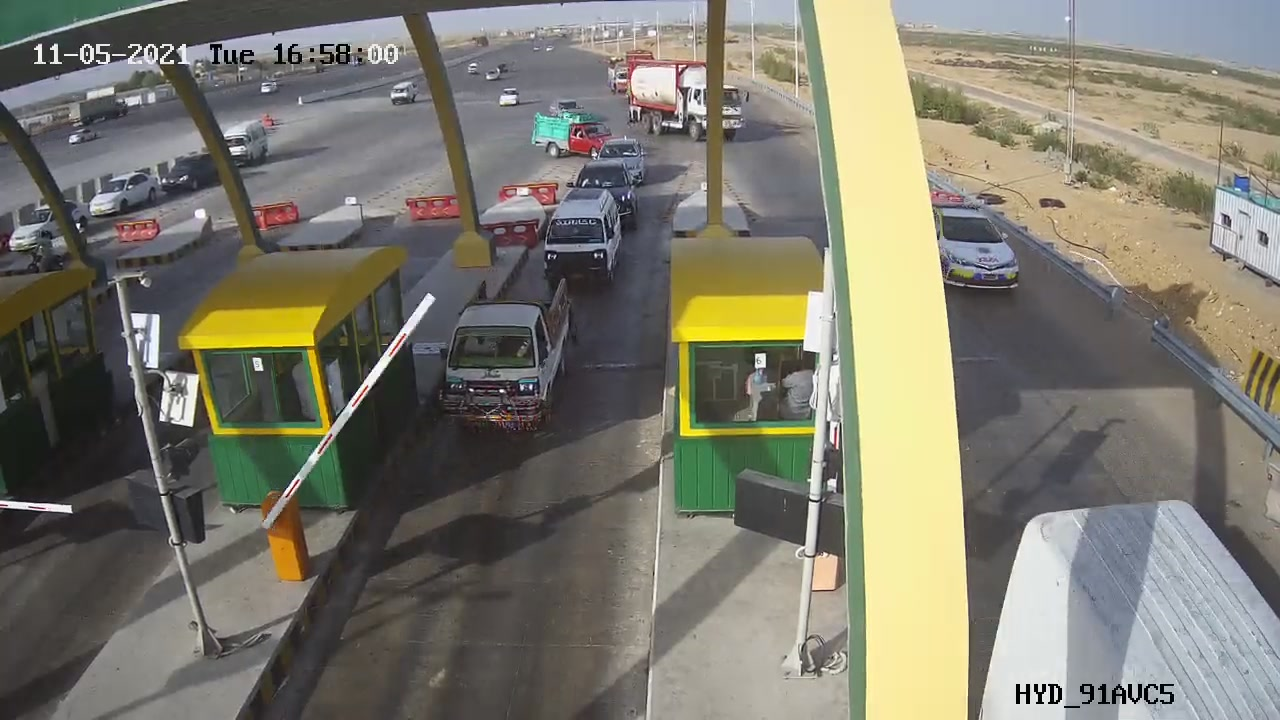F1: (432, 272, 582, 428), (519, 180, 637, 303)
